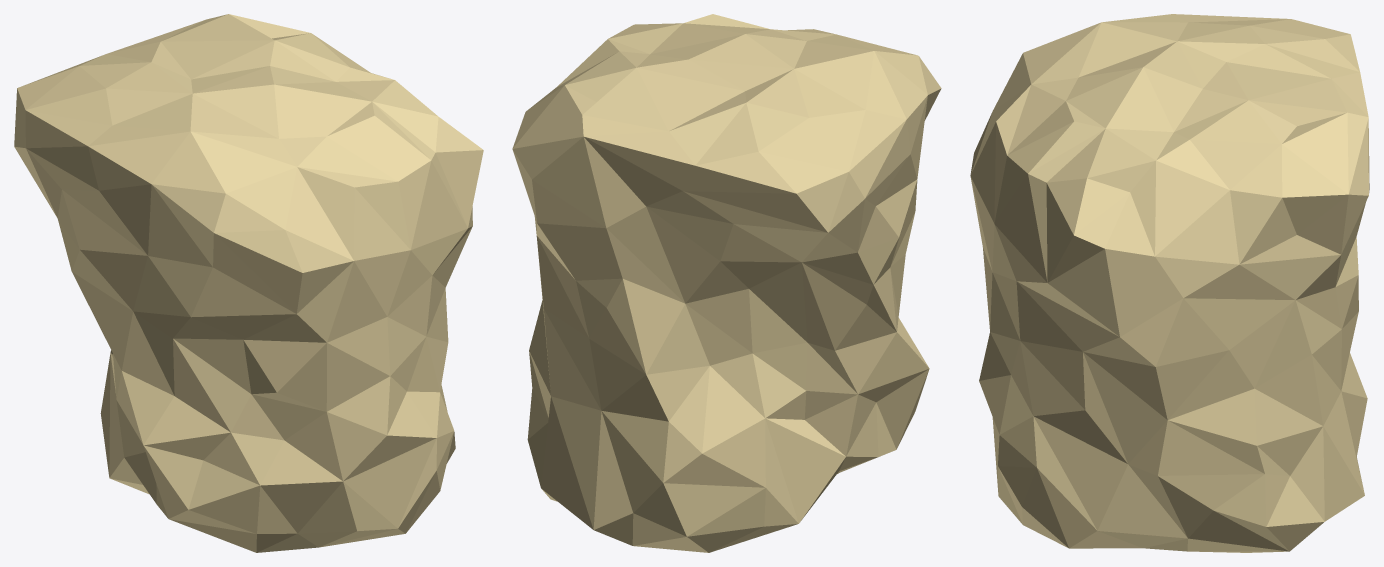
Rendered from Asteroid (95).fbx.
3 renders of one model, left to right at view 1: azimuth 30°, elevation 25°; view 2: azimuth 150°, elevation 25°; view 3: azimuth 270°, elevation 25°, orthographic. The views are drawn at different scales.
Parts seen in each view (by area): view 1: Asteroid191; view 2: Asteroid191; view 3: Asteroid191.
Part boxes in pixels (x1,y1,x2,y2): Asteroid191: [14, 14, 483, 552]; Asteroid191: [512, 14, 941, 552]; Asteroid191: [970, 14, 1369, 552].
Bounding box in the file's own units: 420 × 496 × 392.
